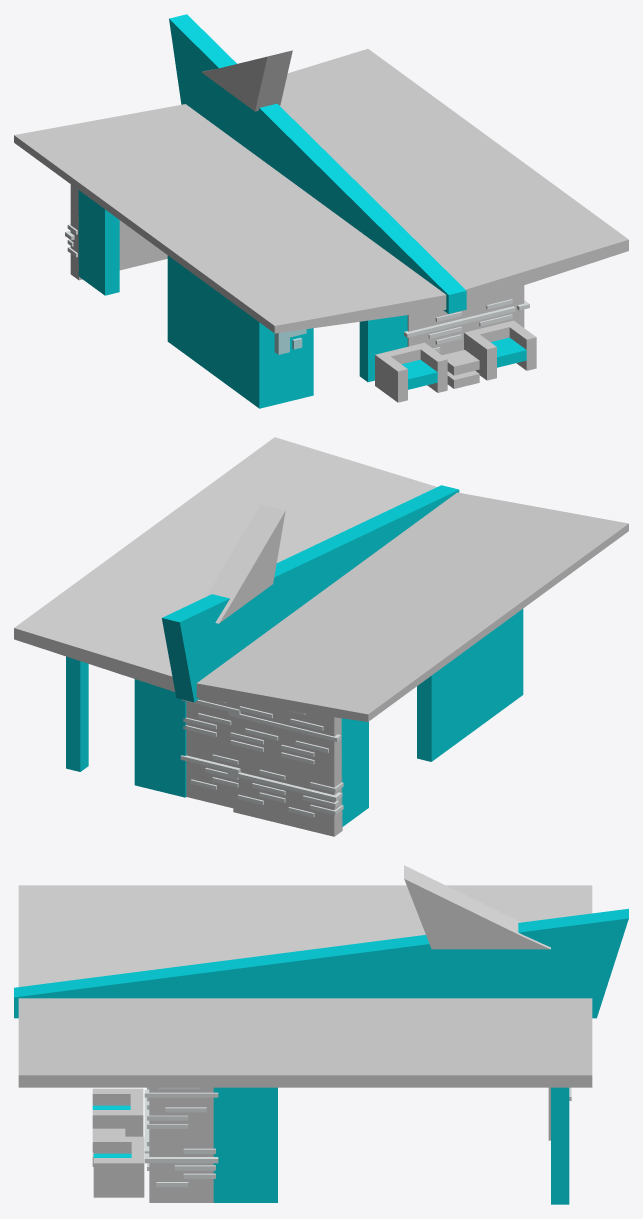
The model's file is boxhouse8.glb.
The picture shows the model from 3 angles, top to bottom: view 1: azimuth 30°, elevation 25°; view 2: azimuth 150°, elevation 25°; view 3: azimuth 270°, elevation 25°; orthographic projection. The views are drawn at different scales.
Parts seen in each view (by area): view 1: group306629829, group557756164, group982699386, group651121471, group1161144091, group1316387246, group2063638046, group1051477232, group893342048, group1084267341, group2066711579, group390957751 (+3 smaller); view 2: group306629829, group557756164, group982699386, group651121471, group390957751, group1816393471, group873533758, group864742615, group1051477232, group1316387246, group1593195228; view 3: group557756164, group306629829, group982699386, group1244855298, group1051477232, group1377850337, group893342048, group2063638046, group1593195228, group206610773.
Part boxes in pixels (box(x1,y1,x2,y2)): group306629829: box(14, 104, 446, 333); group557756164: box(280, 49, 628, 303); group982699386: box(169, 14, 466, 313); group651121471: box(167, 255, 273, 408); group1161144091: box(404, 290, 515, 355); group1316387246: box(78, 190, 119, 295); group2063638046: box(375, 342, 447, 402); group1051477232: box(201, 50, 292, 111); group893342048: box(464, 320, 536, 380); group1084267341: box(274, 328, 313, 404); group2066711579: box(359, 315, 407, 382); group390957751: box(65, 184, 129, 280); group306629829: box(196, 492, 628, 721); group557756164: box(14, 437, 436, 691); group982699386: box(162, 485, 459, 702); group651121471: box(417, 609, 523, 761); group390957751: box(281, 710, 343, 836); group1816393471: box(227, 703, 286, 824); group873533758: box(134, 679, 186, 797); group864742615: box(180, 698, 240, 809); group1051477232: box(206, 504, 285, 623); group1316387246: box(341, 718, 368, 826); group1593195228: box(66, 656, 88, 771); group557756164: box(18, 998, 592, 1087); group306629829: box(18, 885, 592, 986); group982699386: box(14, 908, 628, 1018); group1244855298: box(213, 1087, 277, 1202); group1051477232: box(404, 865, 550, 949); group1377850337: box(149, 1087, 213, 1202); group893342048: box(93, 1136, 144, 1197); group2063638046: box(92, 1088, 143, 1136); group1593195228: box(551, 1087, 569, 1204); group206610773: box(144, 1153, 218, 1163).
Size of the model in its own units: 0.98 by 0.64 by 1.34.
